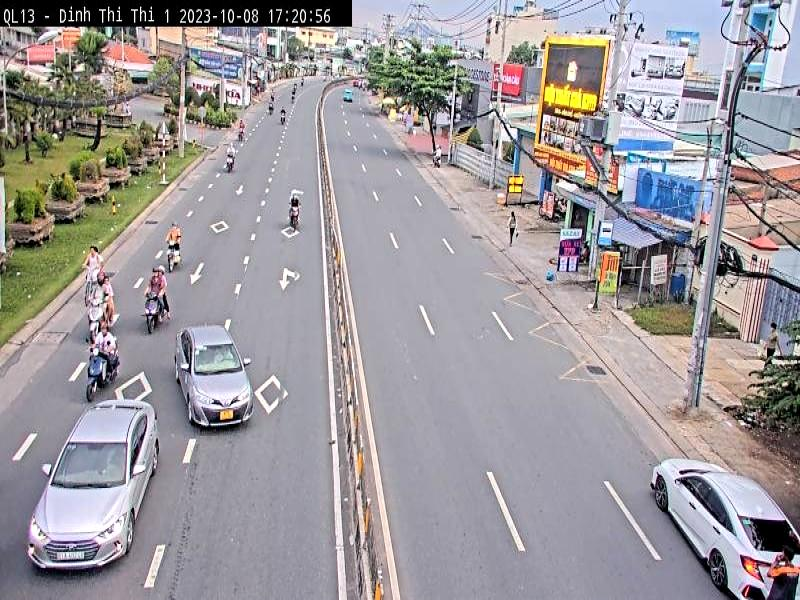car: (24, 400, 160, 576), (650, 458, 799, 600), (173, 321, 255, 433)
motorcycle: (83, 345, 121, 404), (140, 292, 167, 335), (86, 297, 102, 340), (165, 241, 180, 272), (290, 204, 300, 229)
